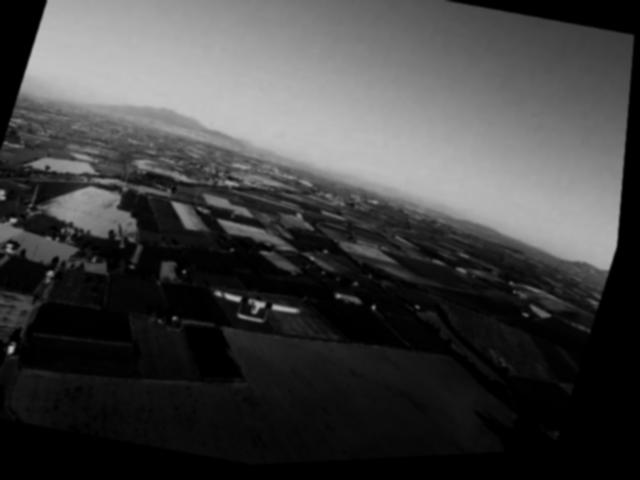hedef: (204, 276, 318, 342)
